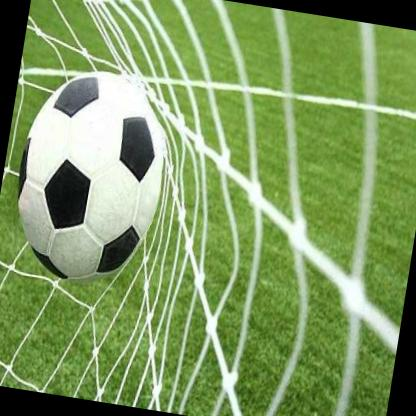ball: (4, 61, 177, 289)
